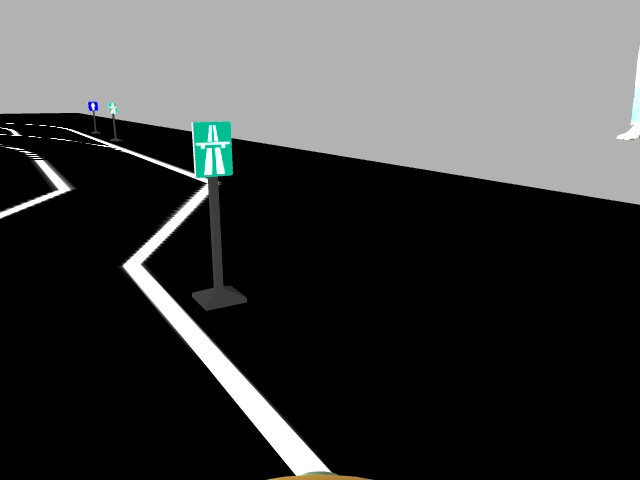HighwayEntrance: (189, 120, 234, 175)
